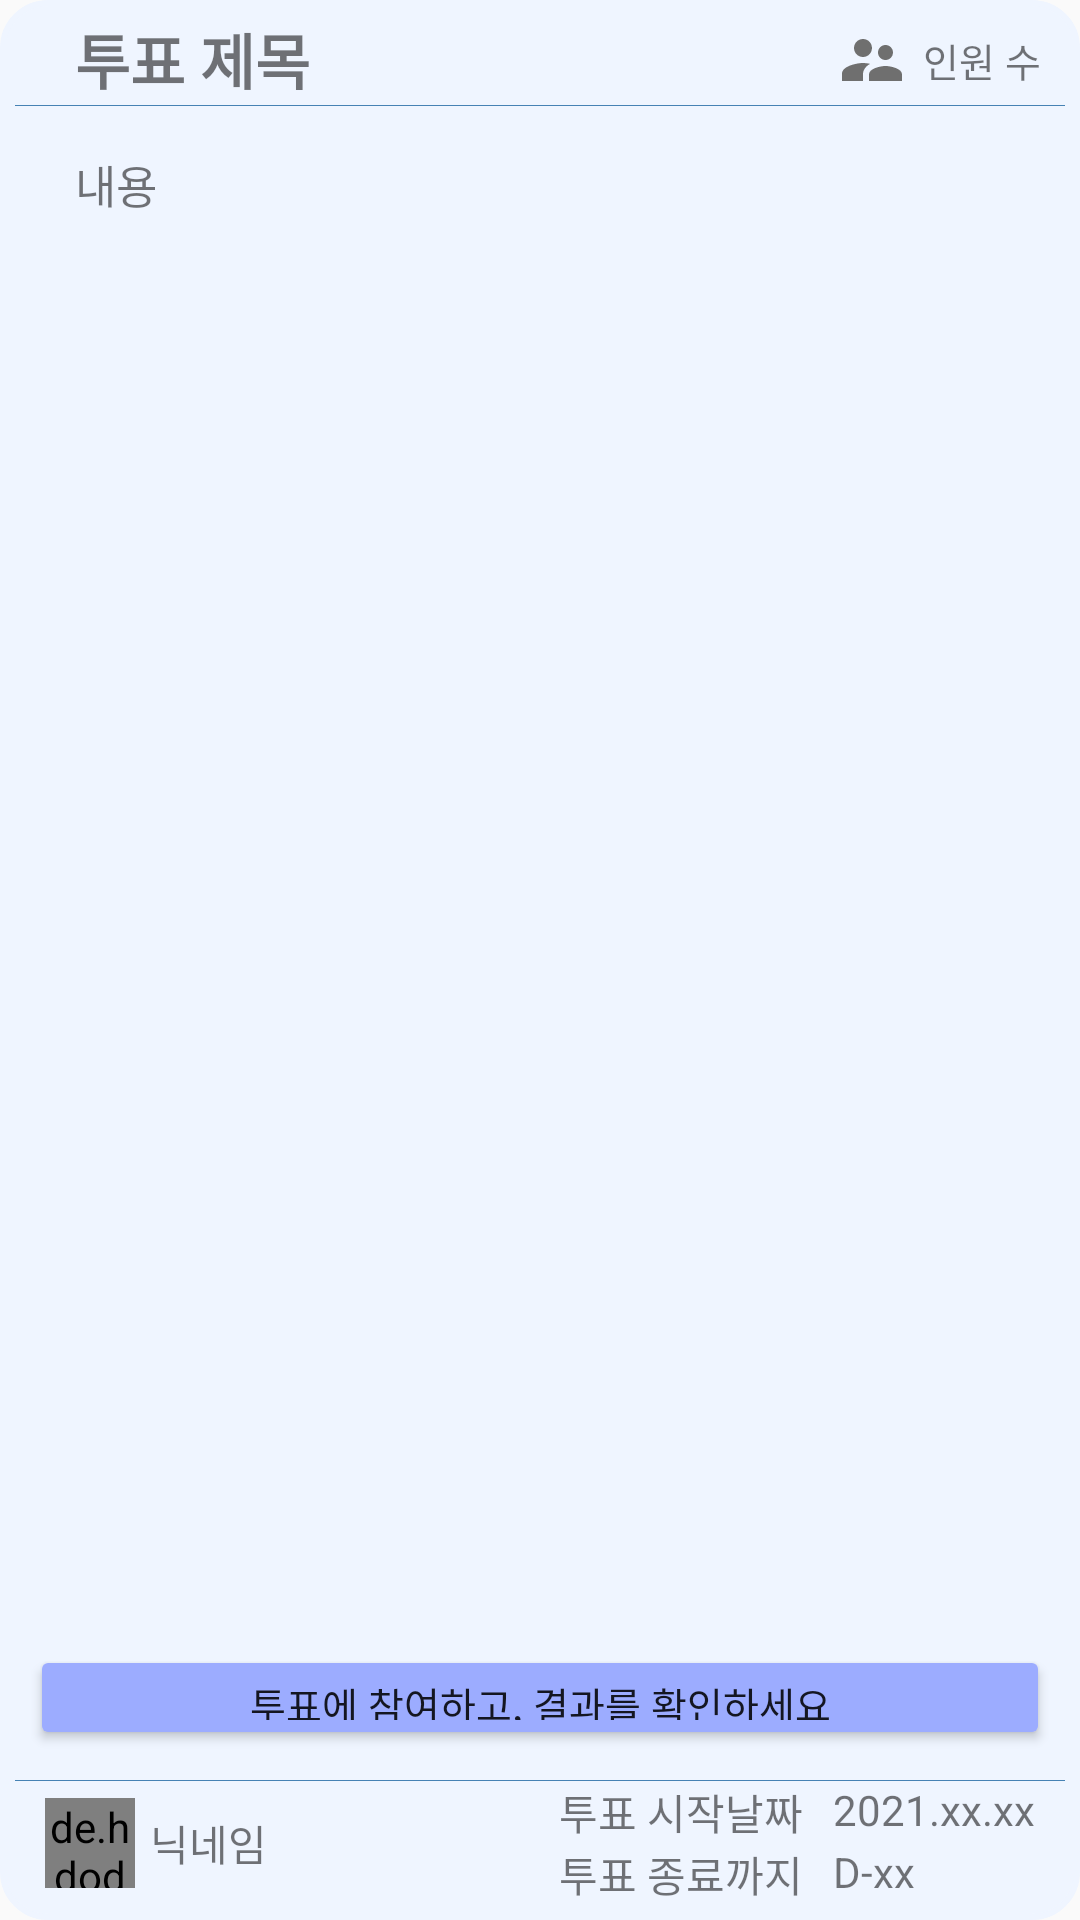

Icon click points for this 1080×1920 phone screenshot, format [x,y]:
supervisor account: [872,60]
